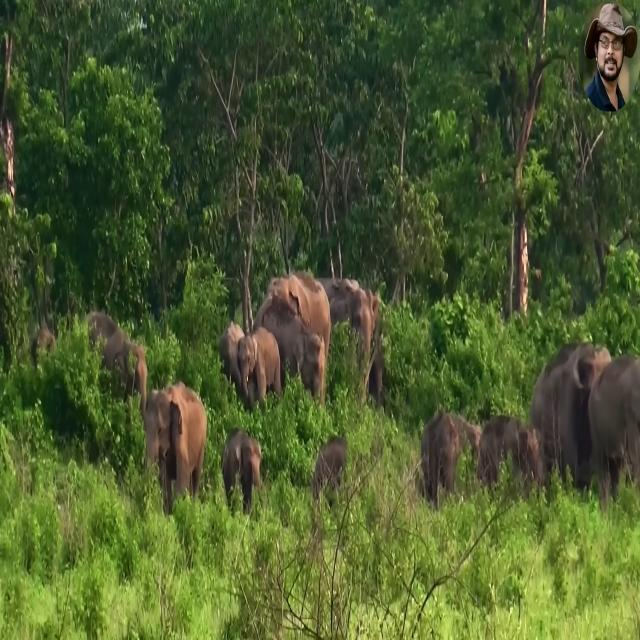Elephant: (530, 341, 611, 502), (144, 380, 207, 518), (588, 353, 640, 515), (82, 310, 147, 428), (420, 409, 482, 511), (476, 414, 544, 503), (221, 427, 261, 516), (312, 436, 348, 510)
